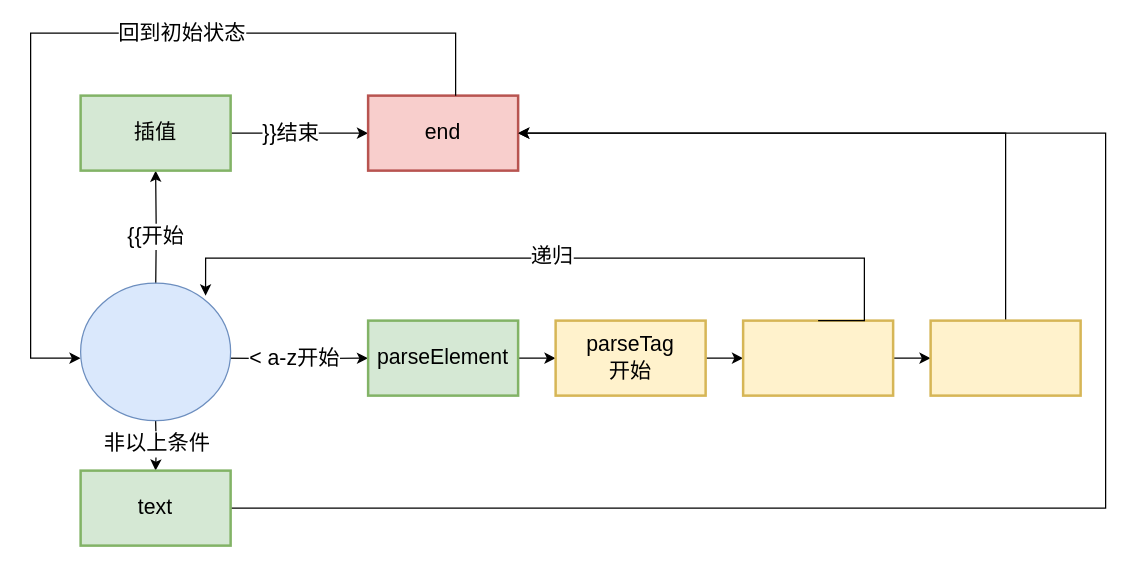
This 1138x569 diagram has some shape labels left out. Here are the shapes that lost their labels. From the top down, the centre of each, then its label:
the point at 155,351: 初始状态
the point at 817,357: parseChildren
the point at 1005,357: parseTag 结束
